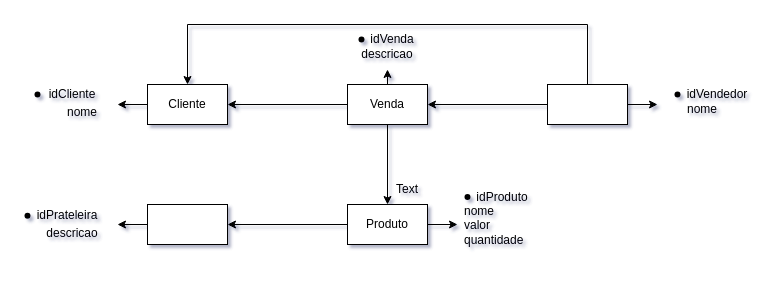
Some shapes in this 781 by 290 pixel diagram are drawn without their labels. The box of each missing label's shape, as (x1, y1, x2, y2) in pixels:
Prateleira: (146, 204, 228, 244)
Vendedor: (546, 84, 628, 124)
